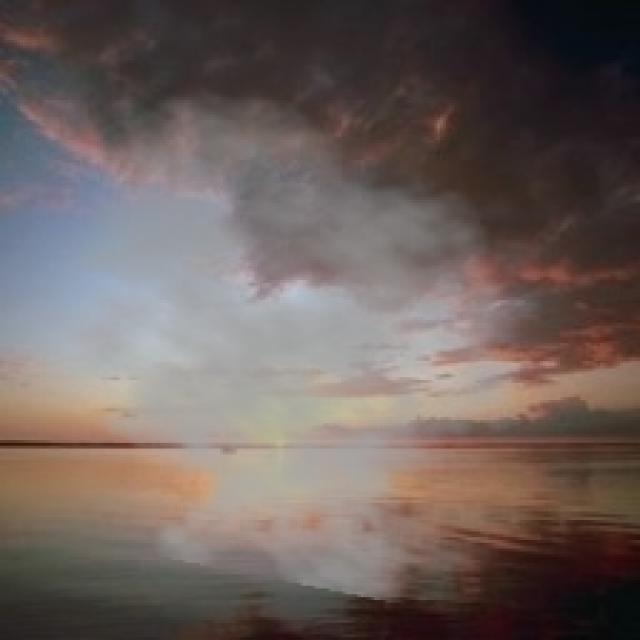smoke: (14, 89, 546, 606)
